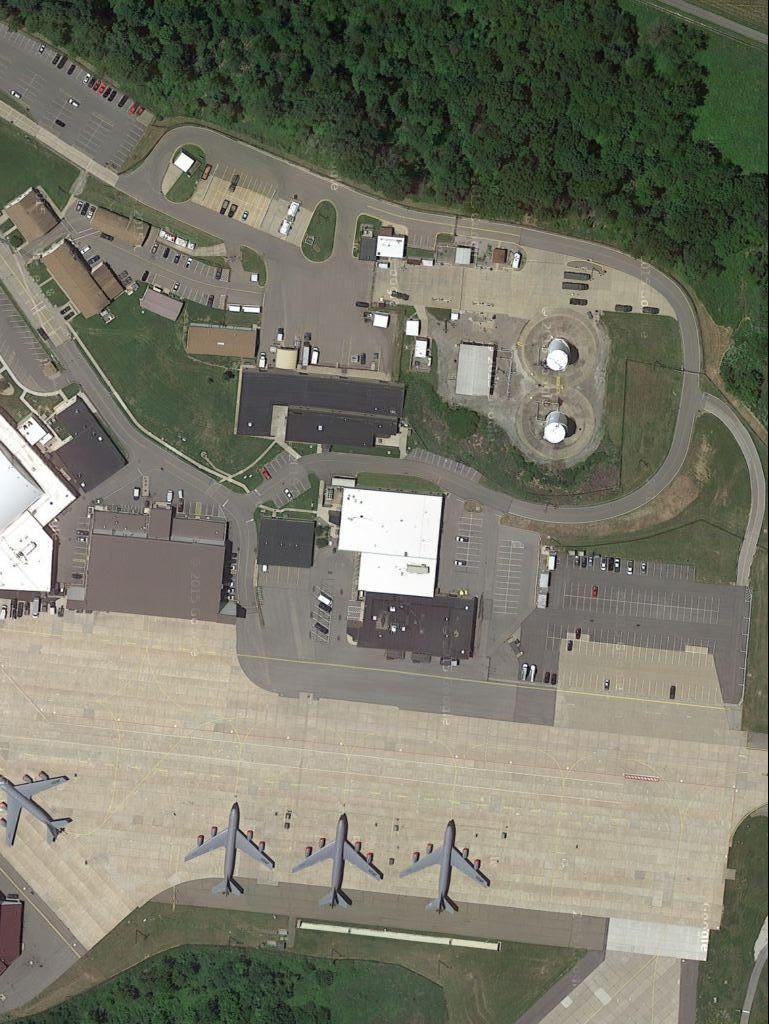KC-135: (398, 813, 494, 916), (291, 813, 386, 917), (185, 797, 276, 902), (1, 768, 78, 850)
